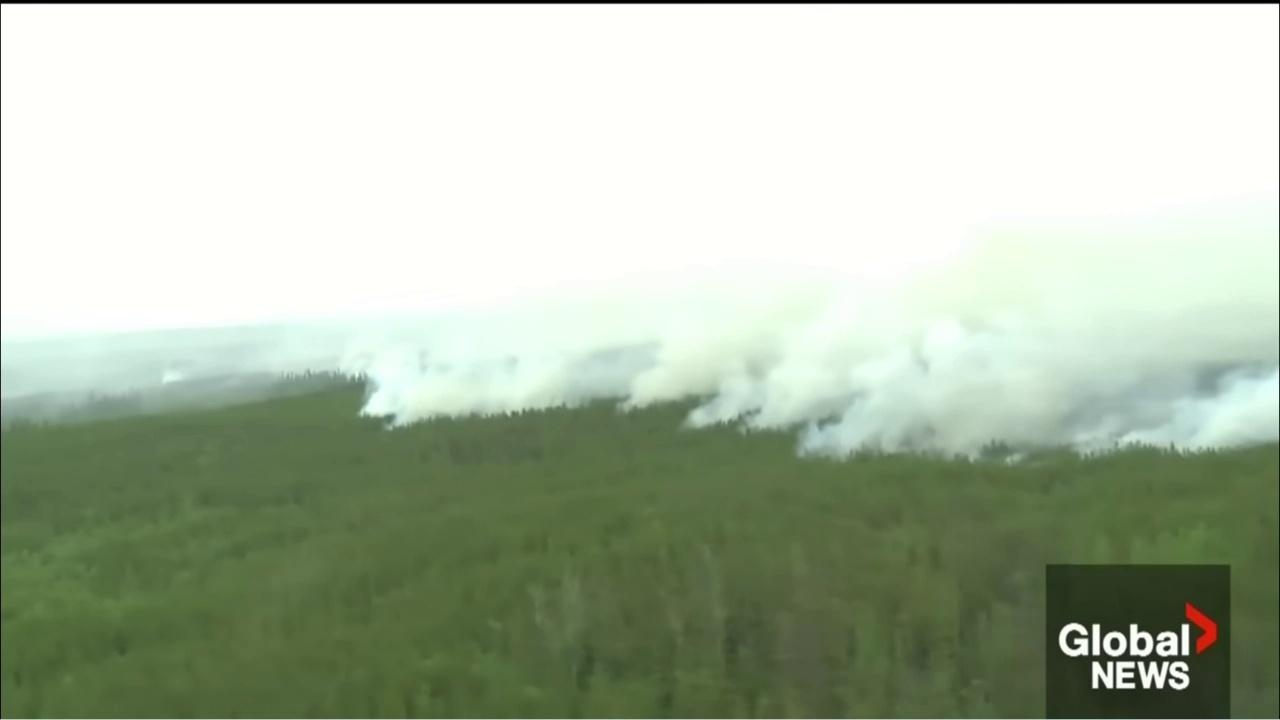smoke: (1, 4, 1279, 470)
